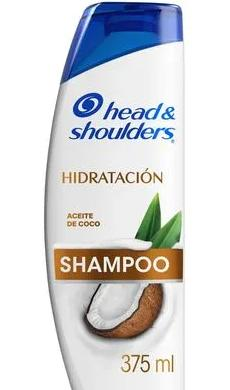brand: (65, 95, 181, 142)
extra_detail: (62, 166, 175, 189)
net_weight: (121, 349, 185, 379)
product_name: (54, 251, 178, 279)
